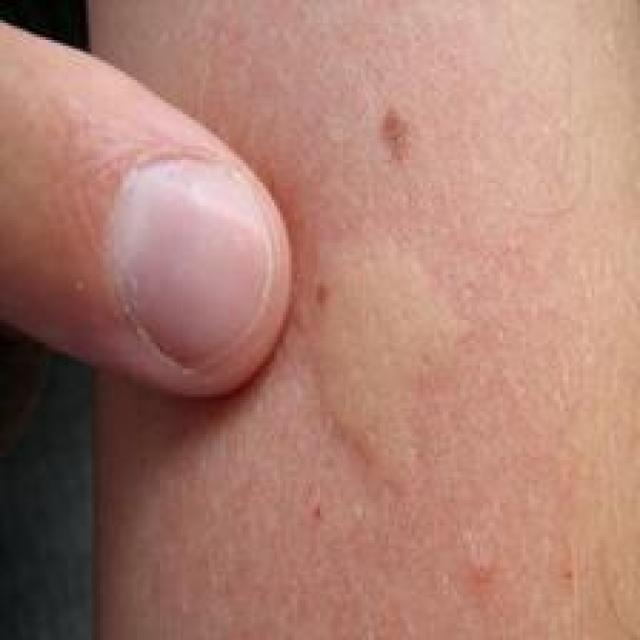sinek: (311, 234, 495, 478)
